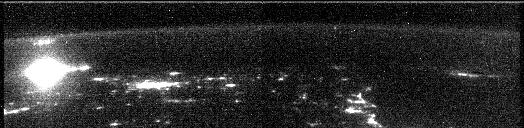positive: (30, 37, 57, 48)
